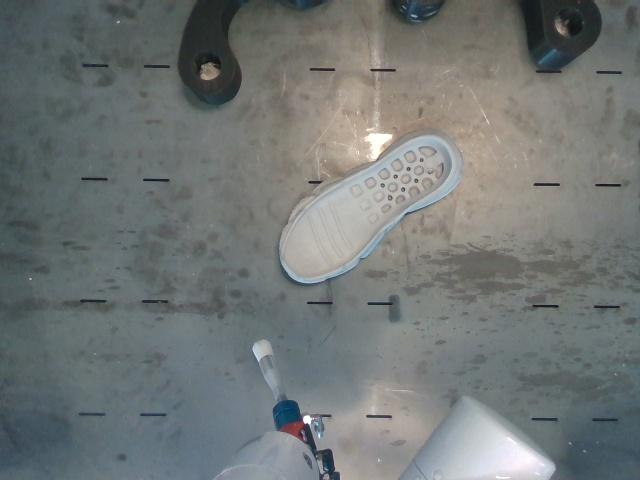shoes: (283, 138, 452, 277)
